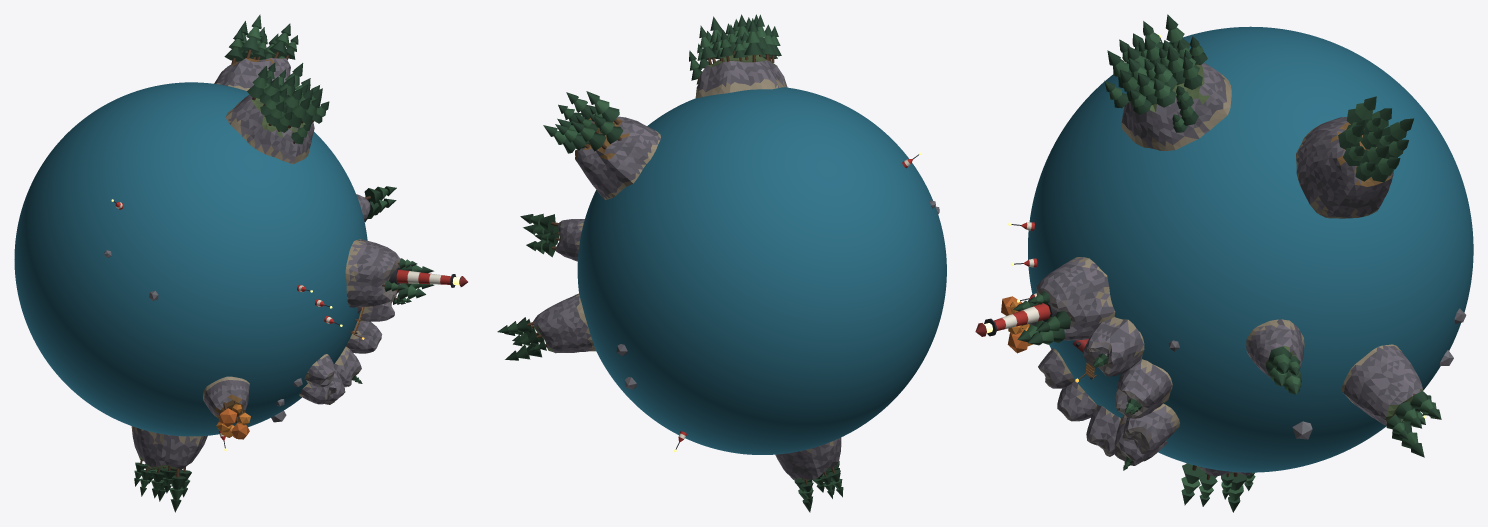
Rendered from w_001-harbour.glb.
3 renders of one model, left to right at view 1: azimuth 30°, elevation 25°; view 2: azimuth 150°, elevation 25°; view 3: azimuth 270°, elevation 25°, orthographic. The views are drawn at different scales.
Parts seen in each view (by area): view 1: Water, Island_lighthouse, Island_pines, Island_island-9, Island_island-6, Island_autumn, Lighthouse, Island_bay-arm-3, Island_bay-arm-7, Island_bay-arm-4, Island_bay-arm-2, Island_bay-arm-6; view 2: Water, Island_island-6, Island_pines, Island_island-3, Island_island-9, Island_island-8; view 3: Water, Island_island-6, Island_pines, Island_island-3, Island_lighthouse, Island_bay-arm-1, Island_bay-arm-2, Island_island-8, Island_bay-arm-3, Lighthouse, Island_bay-arm-5, Island_bay-arm-6 (+3 smaller).
Part boxes in pixels (bbox=[...]): Water: bbox=[14, 82, 367, 436]; Island_lighthouse: bbox=[345, 239, 400, 307]; Island_pines: bbox=[225, 94, 314, 164]; Island_island-9: bbox=[131, 426, 207, 470]; Island_island-6: bbox=[214, 58, 290, 90]; Island_autumn: bbox=[203, 376, 249, 418]; Lighthouse: bbox=[389, 267, 467, 287]; Island_bay-arm-3: bbox=[346, 321, 382, 353]; Island_bay-arm-7: bbox=[304, 354, 335, 387]; Island_bay-arm-4: bbox=[334, 346, 361, 387]; Island_bay-arm-2: bbox=[358, 294, 396, 321]; Island_bay-arm-6: bbox=[299, 380, 336, 404]; Water: bbox=[577, 87, 946, 454]; Island_island-6: bbox=[575, 116, 660, 199]; Island_pines: bbox=[695, 55, 787, 97]; Island_island-3: bbox=[533, 293, 595, 353]; Island_island-9: bbox=[775, 437, 841, 479]; Island_island-8: bbox=[555, 219, 584, 261]; Water: bbox=[1028, 26, 1473, 472]; Island_island-6: bbox=[1296, 117, 1393, 218]; Island_pines: bbox=[1121, 63, 1231, 150]; Island_island-3: bbox=[1341, 344, 1423, 425]; Island_lighthouse: bbox=[1034, 257, 1115, 340]; Island_bay-arm-1: bbox=[1083, 317, 1144, 376]; Island_bay-arm-2: bbox=[1115, 359, 1172, 418]; Island_island-8: bbox=[1246, 319, 1304, 377]; Island_bay-arm-3: bbox=[1122, 403, 1179, 453]; Lighthouse: bbox=[975, 303, 1057, 336]; Island_bay-arm-5: bbox=[1086, 405, 1120, 456]; Island_bay-arm-6: bbox=[1057, 381, 1096, 421].
Size of the model in its own units: 12.14 by 13.58 by 11.17.
